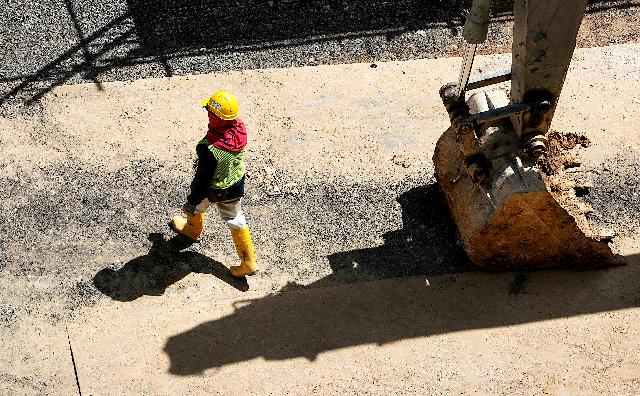helmet: (201, 91, 243, 119)
